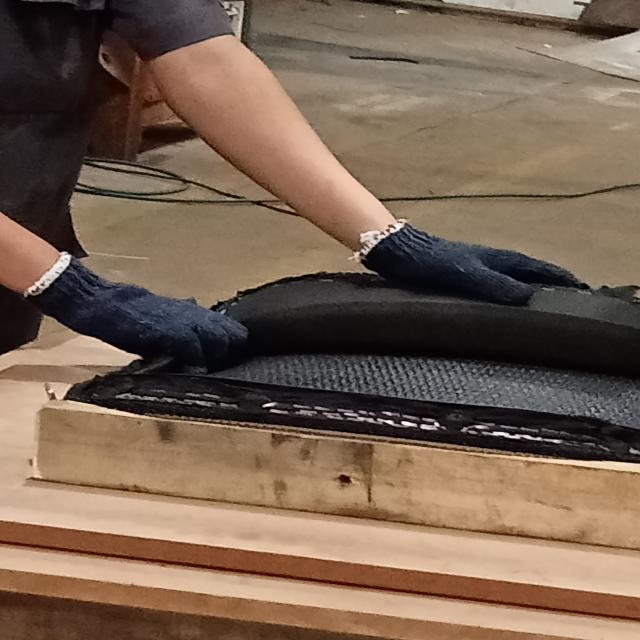Gloves-Detection: (43, 250, 232, 370), (378, 217, 550, 308)
